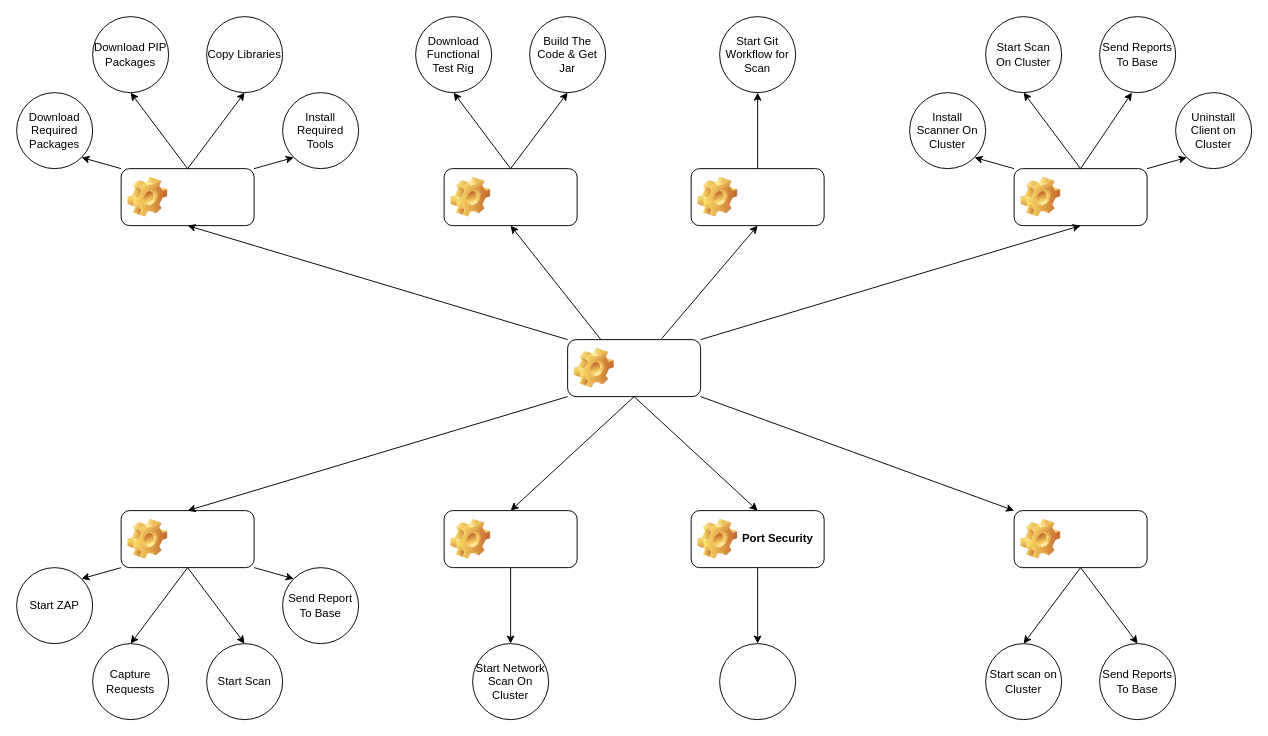
Some shapes in this 1268 by 736 pixel diagram are drawn without their labels. Here are the shapes that lost their labels. From the top down, the box of each, then its label:
(120, 168, 254, 226): Run Basic Setup
(443, 168, 577, 226): Functional Test Setup
(690, 168, 824, 226): Git hub Repo Scan
(1013, 168, 1147, 226): OS Security
(567, 339, 701, 397): Run
(120, 510, 254, 568): API Security
(443, 510, 577, 568): Network Security
(1013, 510, 1147, 568): Docker Security
(719, 643, 796, 720): Start Port Scanning Of Cluster
